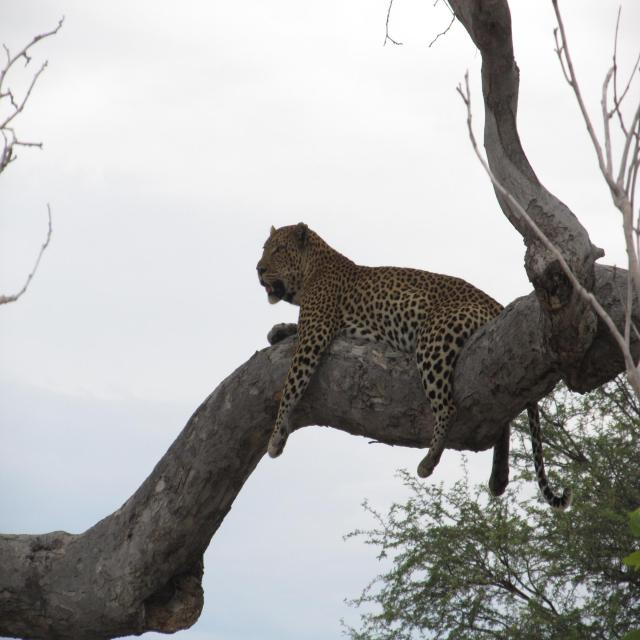Leopard: (252, 223, 580, 507)
